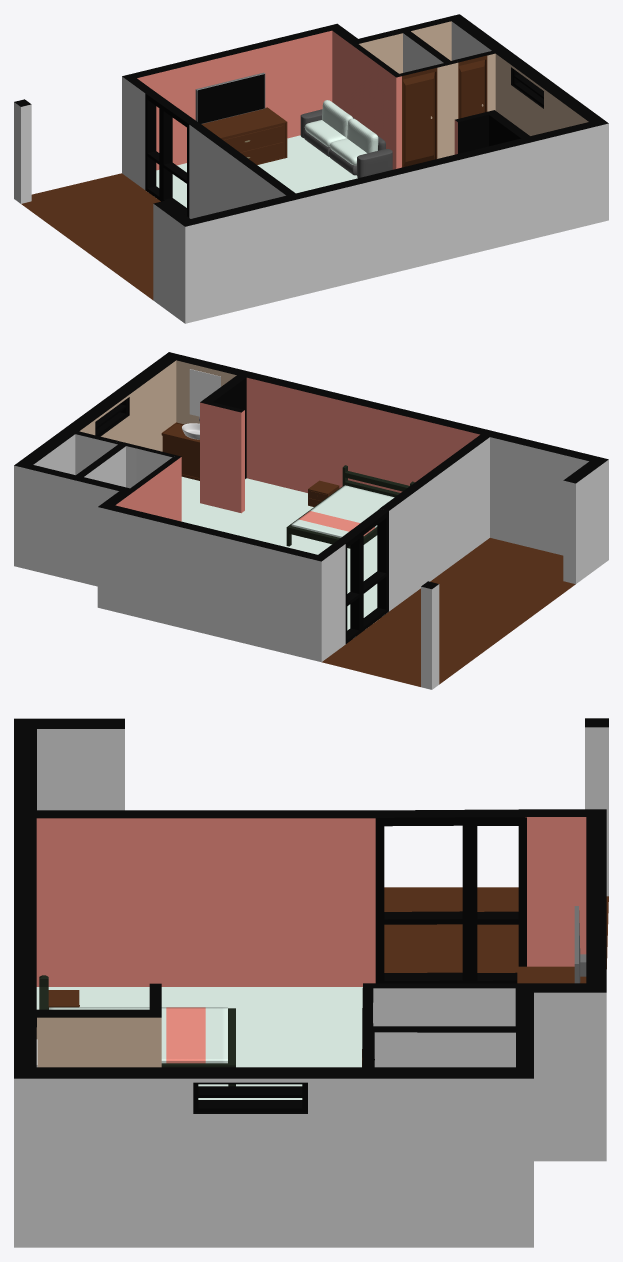
The model's file is plan.glb.
The picture shows the model from 3 angles, top to bottom: view 1: azimuth 30°, elevation 25°; view 2: azimuth 150°, elevation 25°; view 3: azimuth 270°, elevation 25°; orthographic projection. The views are drawn at different scales.
Visible parts, largest first — view 1: home, commode, sofa.006, sofa.005, sofa.001, sofa; view 2: home, matelat, lit, lavabo.001, commode; view 3: home, matelat, commode, lit.
Boxes of the visible parts, x1,y1,x2,y2 form: home: [14, 14, 608, 323]; commode: [201, 107, 287, 164]; sofa.006: [322, 100, 378, 153]; sofa.005: [300, 109, 392, 178]; sofa.001: [304, 120, 346, 146]; sofa: [330, 138, 366, 165]; home: [14, 352, 608, 689]; matelat: [291, 485, 394, 537]; lit: [286, 465, 414, 548]; lavabo.001: [161, 422, 199, 480]; commode: [308, 480, 339, 506]; home: [14, 718, 608, 1247]; matelat: [49, 1007, 227, 1063]; commode: [48, 966, 586, 1007]; lit: [39, 975, 235, 1086].
Size of the model in its own units: 4.05 by 0.8893 by 2.83.
